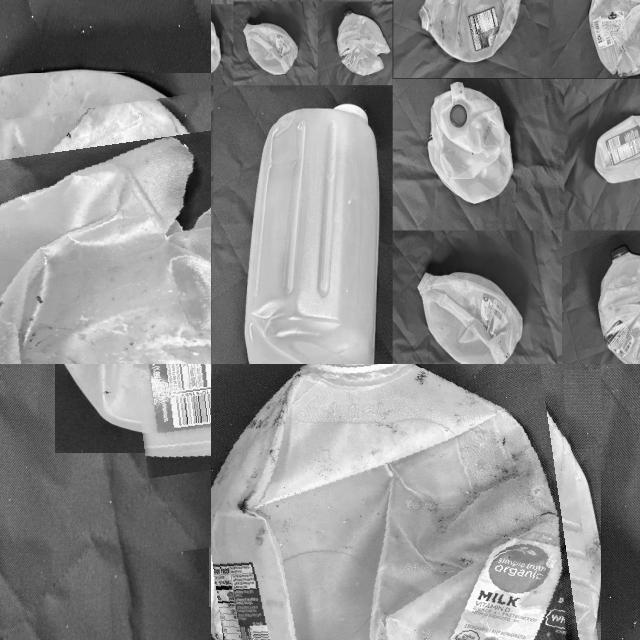milk-jug: (211, 364, 595, 640), (0, 98, 211, 364), (247, 105, 377, 364), (120, 364, 211, 542), (422, 90, 514, 204), (419, 275, 523, 364), (414, 0, 522, 68), (594, 248, 640, 364), (333, 7, 387, 81), (586, 0, 640, 71), (592, 111, 640, 187), (242, 17, 298, 76)
